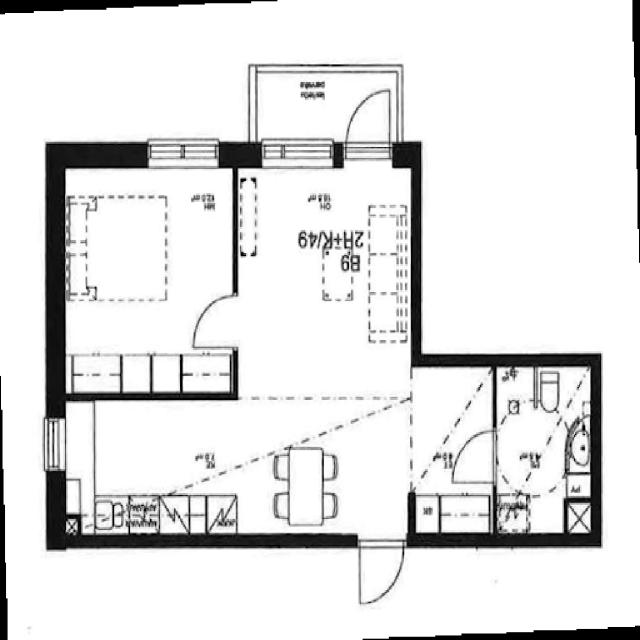door: (419, 384, 499, 521), (353, 532, 409, 608), (342, 85, 396, 162), (187, 286, 244, 357), (449, 422, 501, 491)
window: (140, 130, 228, 172), (254, 134, 340, 172), (39, 408, 70, 483)
zone: (233, 154, 416, 408), (59, 158, 238, 401), (494, 362, 594, 540)
